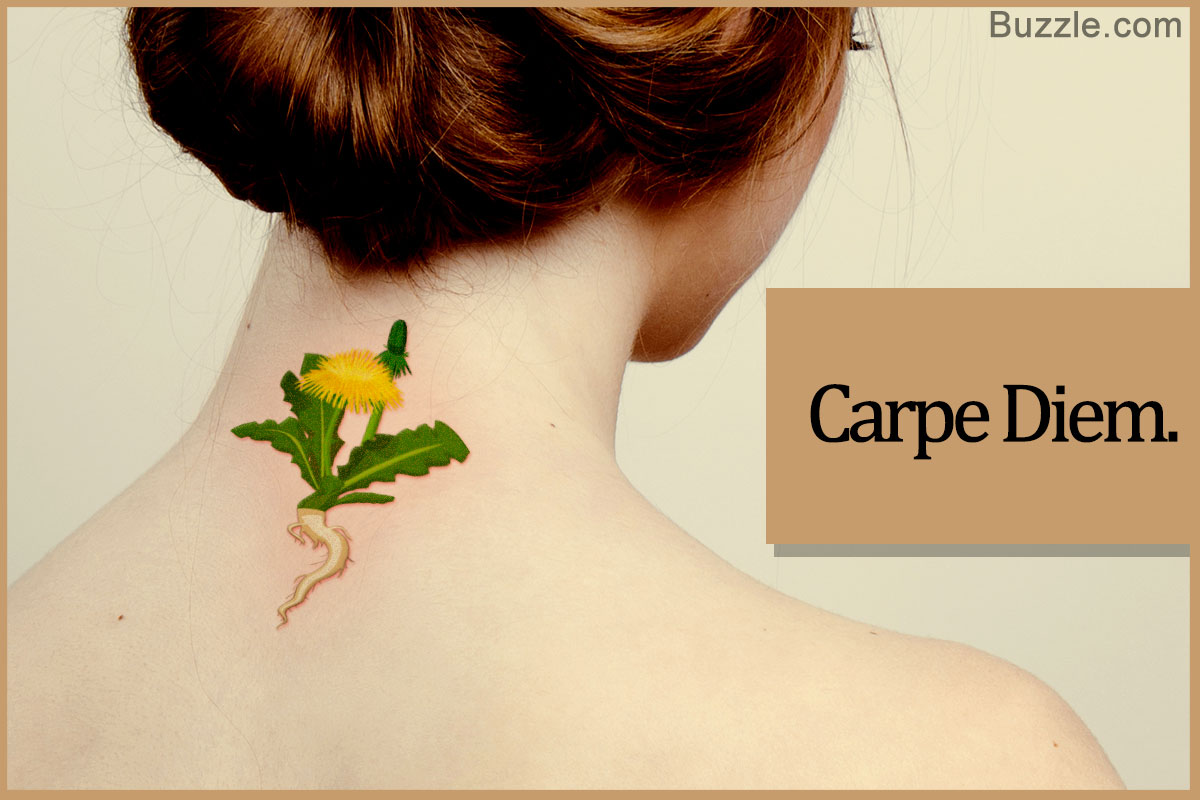dandelion: (267, 349, 416, 421)
